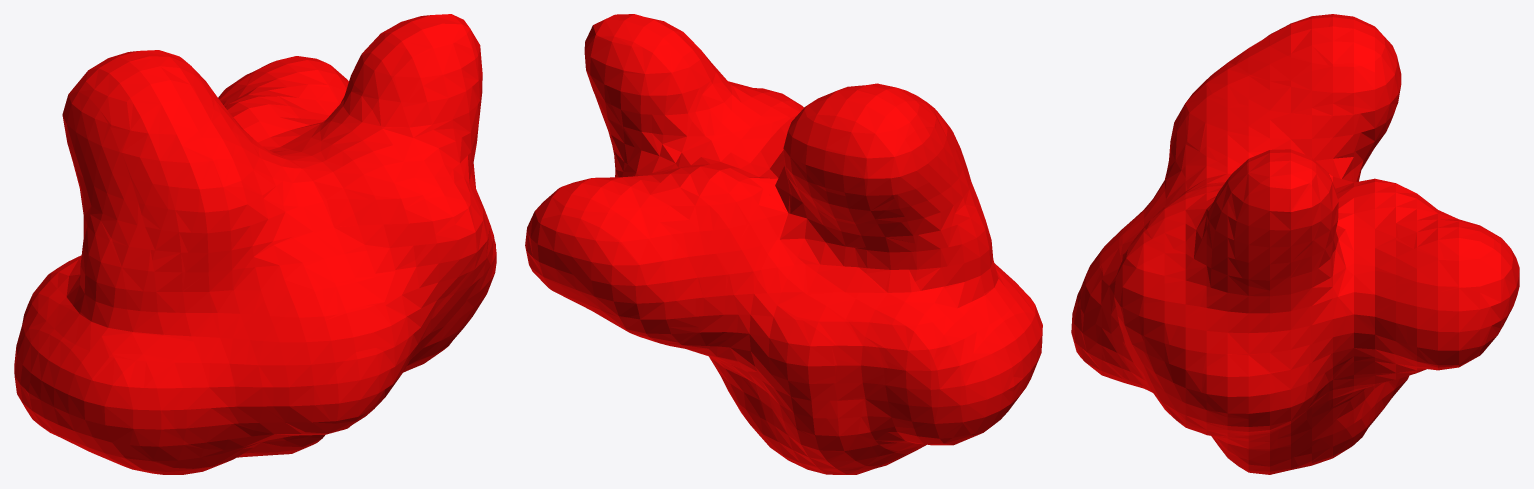
File: ydiZ_coarse.dae
The picture shows the model from 3 angles, left to right: view 1: azimuth 30°, elevation 25°; view 2: azimuth 150°, elevation 25°; view 3: azimuth 270°, elevation 25°; orthographic projection. The views are drawn at different scales.
Visible parts, largest first — view 1: ydiZ; view 2: ydiZ; view 3: ydiZ.
Part boxes in pixels (x1,y1,x2,y2): ydiZ: [14, 14, 496, 474]; ydiZ: [525, 14, 1042, 474]; ydiZ: [1071, 14, 1519, 474].
Bounding box in the file's own units: 41.33 × 35.99 × 36.2.
